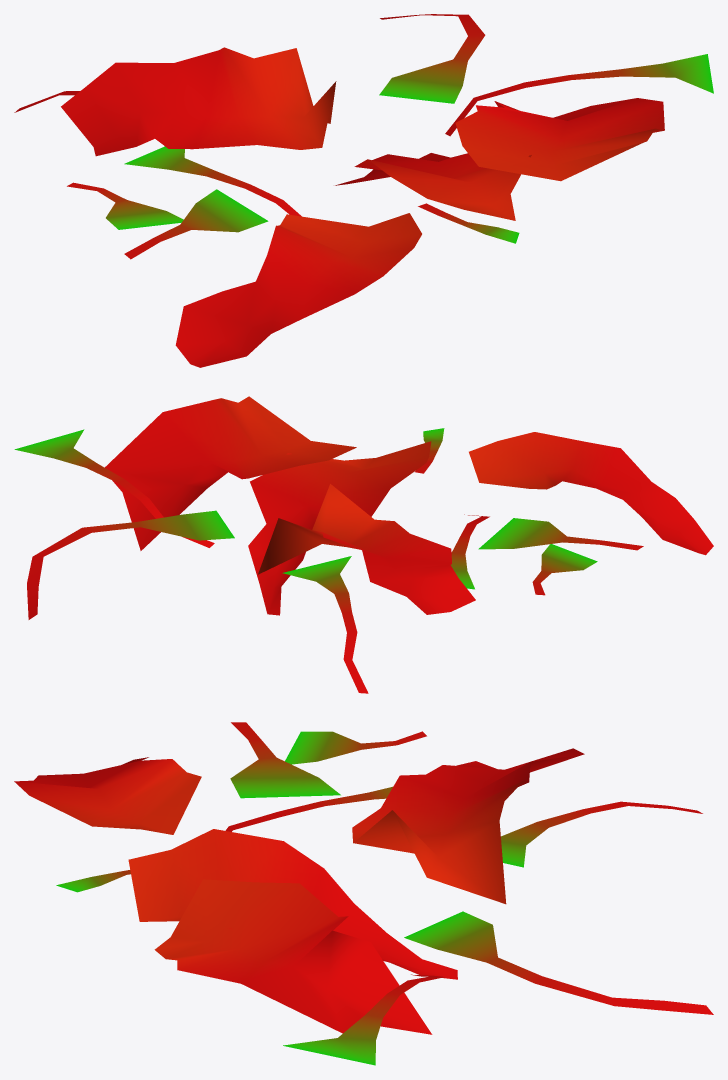
Rendered from Xanadu_LOD0_Var7_siroZ.fbx.
3 renders of one model, top to bottom at view 1: azimuth 30°, elevation 25°; view 2: azimuth 150°, elevation 25°; view 3: azimuth 270°, elevation 25°, orthographic. The views are drawn at different scales.
Parts seen in each view (by area): view 1: _24eb_Var7_LOD0; view 2: _24eb_Var7_LOD0; view 3: _24eb_Var7_LOD0.
Boxes of the visible parts, x1,y1,x2,y2 form: _24eb_Var7_LOD0: (14, 14, 713, 367); _24eb_Var7_LOD0: (14, 396, 713, 693); _24eb_Var7_LOD0: (14, 722, 713, 1065).
Bounding box in the file's own units: 41.98 × 8.45 × 35.71.
